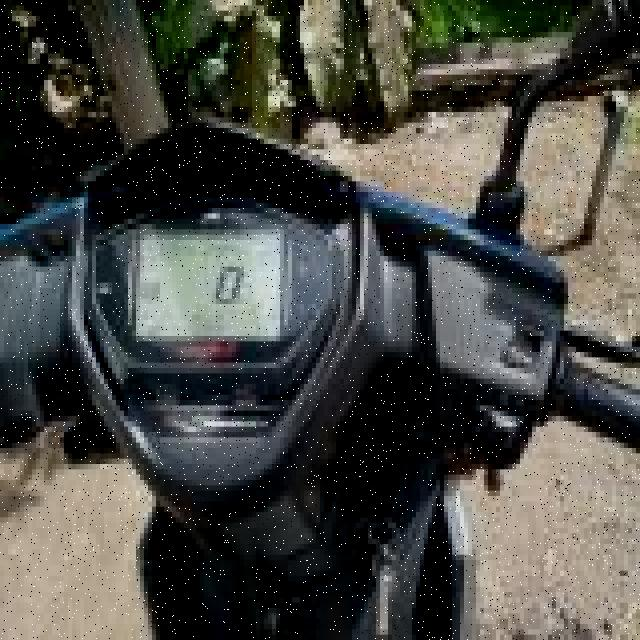motorbike: (3, 125, 640, 640)
